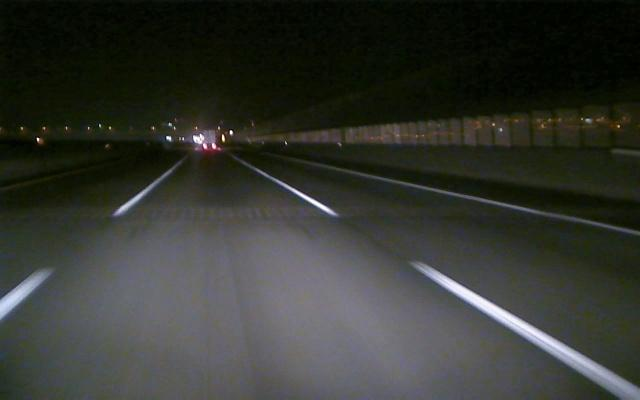lane: (264, 176, 635, 398), (3, 169, 170, 318), (359, 173, 638, 239)
